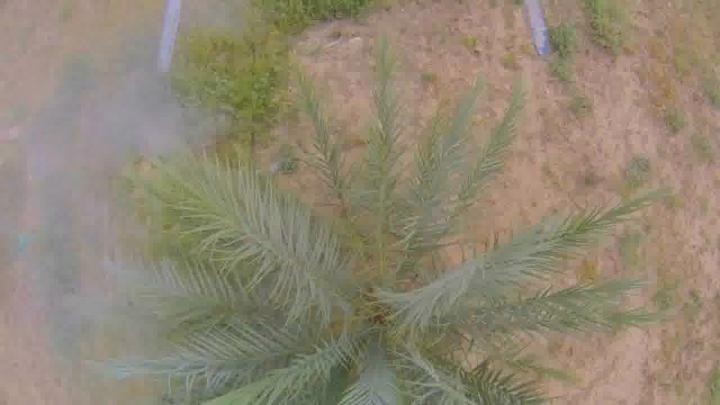Date-Palm-Crown: (200, 187, 498, 405)
